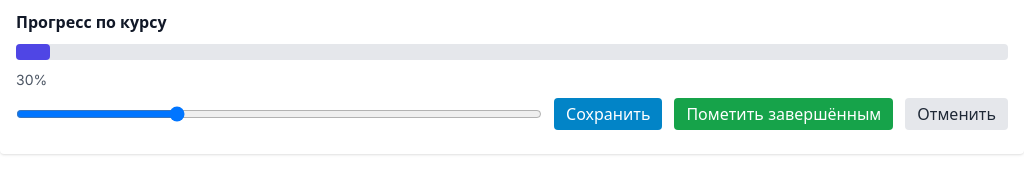
Scenario: ProgressTracker › cancels changes and reverts to last saved value
Set the slider to "60" at (330, 114), box [16,106,542,122]
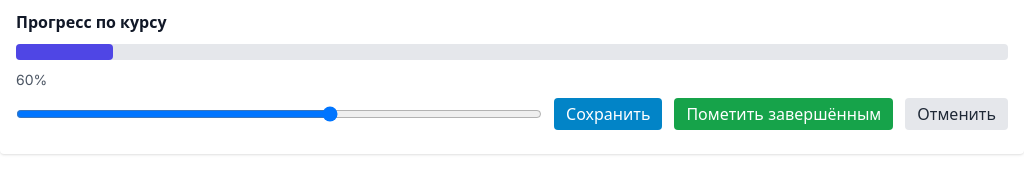
Check: the slider has attribute value="60", box [16,106,542,122]
Click the button "Отменить" at (957, 114), box [905,98,1008,130]
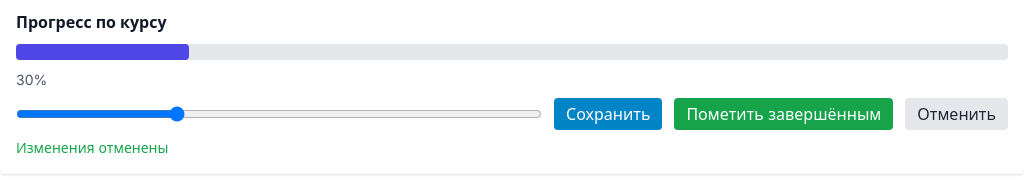
Check: the text "Изменения отменены" is shown, box [16,139,168,156]
